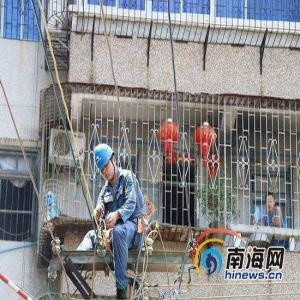blue: (94, 144, 117, 184)
none: (266, 191, 276, 213)
